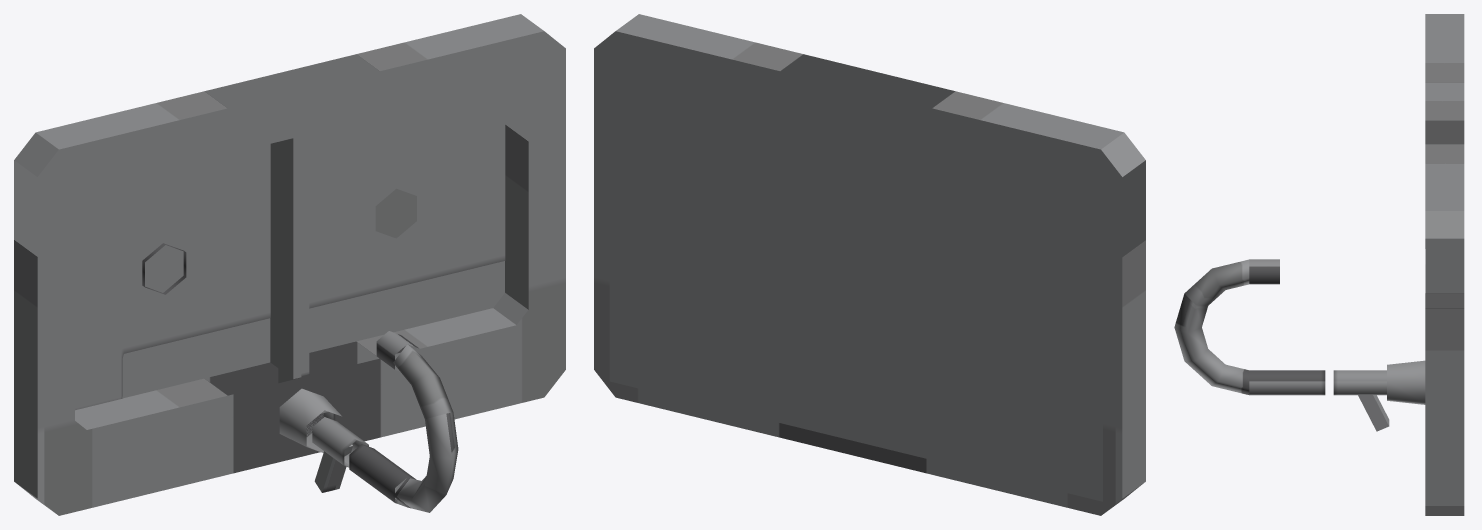
3 renders of one model, left to right at view 1: azimuth 30°, elevation 25°; view 2: azimuth 150°, elevation 25°; view 3: azimuth 270°, elevation 25°, orthographic. The views are drawn at different scales.
Bounding box in the file's own units: 0.664 × 0.4555 × 0.3835.
